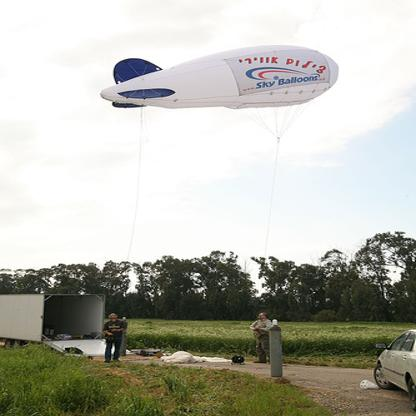Airship: (99, 40, 343, 112)
